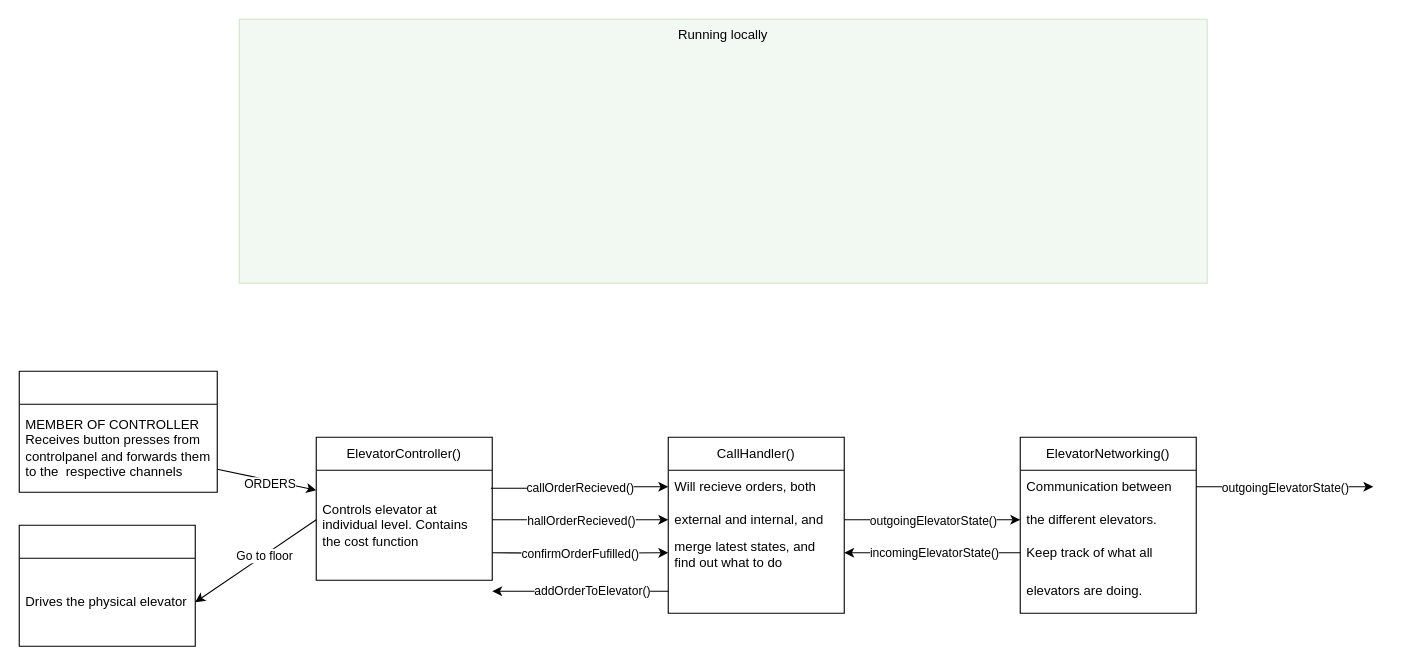
The diagram is 1401 pixels wide and 666 high, and some of its shapes have lost their labels. Each missing label, with the box of its shape:
elevio: (18, 524, 195, 646)
initElevatorIO(): (18, 370, 217, 492)
